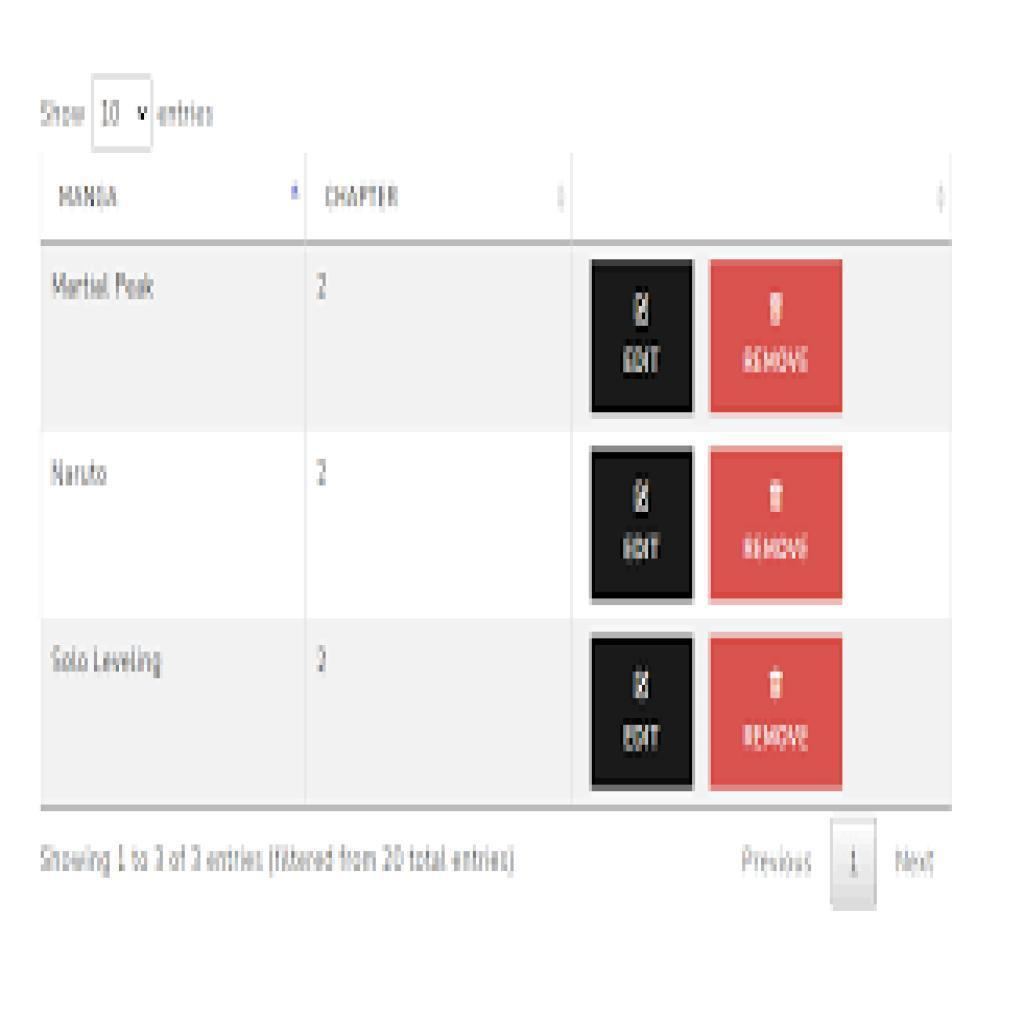dropdown: (93, 75, 153, 146)
